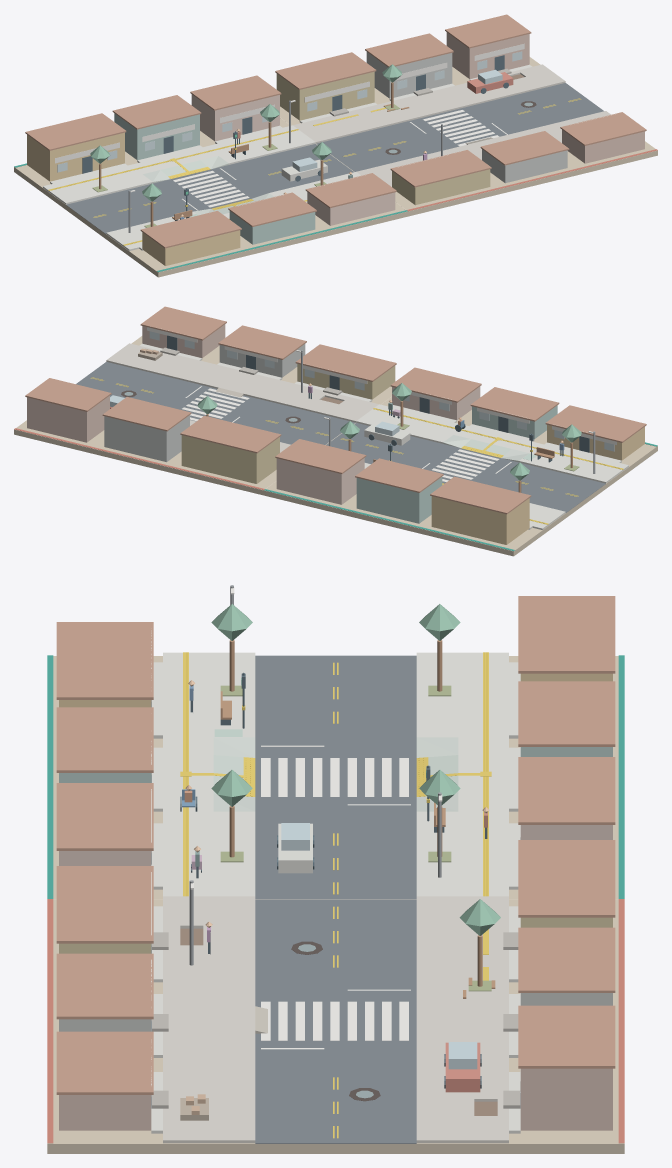
File: rua-brasileira.glb
3 views of the same model, one above another, from view 1: azimuth 30°, elevation 25°; view 2: azimuth 150°, elevation 25°; view 3: azimuth 270°, elevation 25° (orthographic). The views are drawn at different scales.
Visible parts, largest first — view 1: Cobertura (×12), Asfalto, Base 200 x 100 cm, CASA (×4), B1 Piso irregular (×3), MERCADO (×2), PADARIA (×2), FARMÁCIA (×2), OFICINA (×2), Faixa de servico (×4), A1 Faixa livre 2 m, Identificacao do modulo (×2) (+4 smaller); view 2: Cobertura (×12), Asfalto, Base 200 x 100 cm, CASA (×4), B1 Piso irregular (×2), MERCADO (×2), PADARIA (×2), OFICINA (×2), FARMÁCIA (×2), A1 Faixa livre 2 m, Faixa de servico (×2), Identificacao do modulo (×2) (+2 smaller); view 3: Cobertura (×12), Asfalto, B1 Piso irregular (×6), A1 Faixa livre 2 m (×2), Base 200 x 100 cm, Faixa de servico (×4), CASA (×4), Identificacao do modulo (×4), A3 Piso tatil direcional (×2), Copa acima de 2,10 m (×3), OFICINA (×2), MERCADO (×2) (+7 smaller).
Part boxes in pixels (left/top/right/bottom): Cobertura (×12): left=25, top=14, right=646, bottom=248; Asfalto: left=66, top=83, right=603, bottom=233; Base 200 x 100 cm: left=14, top=57, right=657, bottom=277; CASA (×4): left=191, top=32, right=644, bottom=225; B1 Piso irregular (×3): left=293, top=64, right=610, bottom=163; MERCADO (×2): left=276, top=71, right=490, bottom=205; PADARIA (×2): left=27, top=132, right=240, bottom=265; FARMÁCIA (×2): left=114, top=113, right=315, bottom=244; OFICINA (×2): left=366, top=52, right=567, bottom=183; Faixa de servico (×4): left=55, top=134, right=360, bottom=241; A1 Faixa livre 2 m: left=43, top=125, right=304, bottom=196; Identificacao do modulo (×2): left=157, top=149, right=657, bottom=272; Cobertura (×12): left=25, top=306, right=646, bottom=514; Asfalto: left=76, top=362, right=605, bottom=512; Base 200 x 100 cm: left=14, top=336, right=657, bottom=556; CASA (×4): left=27, top=324, right=480, bottom=504; B1 Piso irregular (×2): left=106, top=343, right=378, bottom=422; MERCADO (×2): left=181, top=364, right=395, bottom=483; PADARIA (×2): left=431, top=424, right=644, bottom=544; OFICINA (×2): left=104, top=344, right=305, bottom=462; FARMÁCIA (×2): left=356, top=405, right=557, bottom=523; A1 Faixa livre 2 m: left=367, top=404, right=628, bottom=475; Faixa de servico (×2): left=356, top=413, right=616, bottom=483; Identificacao do modulo (×2): left=14, top=428, right=514, bottom=551; Cobertura (×12): left=56, top=596, right=615, bottom=1094; Asfalto: left=255, top=655, right=416, bottom=1143; B1 Piso irregular (×6): left=163, top=896, right=508, bottom=1143; A1 Faixa livre 2 m (×2): left=163, top=652, right=508, bottom=896; Base 200 x 100 cm: left=47, top=656, right=624, bottom=1153; Faixa de servico (×4): left=213, top=652, right=458, bottom=896; CASA (×4): left=59, top=825, right=612, bottom=1130; Identificacao do modulo (×4): left=47, top=655, right=624, bottom=1143; A3 Piso tatil direcional (×2): left=183, top=652, right=488, bottom=896; Copa acima de 2,10 m (×3): left=211, top=604, right=460, bottom=806; OFICINA (×2): left=59, top=993, right=612, bottom=1031; MERCADO (×2): left=59, top=917, right=612, bottom=953.
Size of the model in its own units: 2 by 0.194 by 1.
